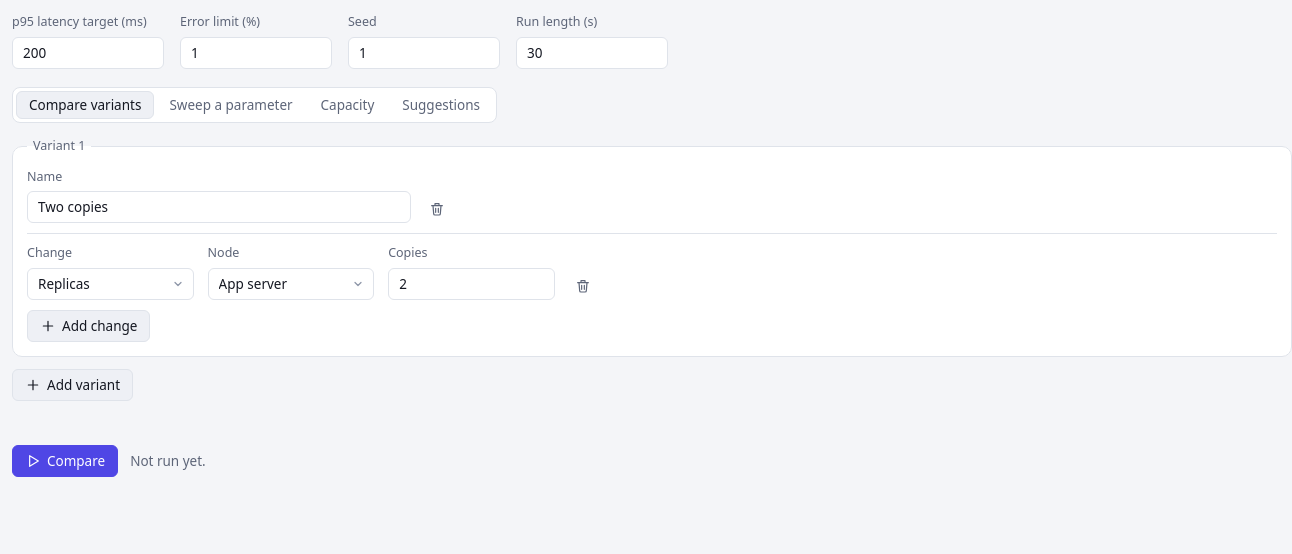
Test case: WhatIfTab › reports capacity and what limits it
Click the button "Capacity". click: point(347, 105)
box: [308, 91, 387, 119]
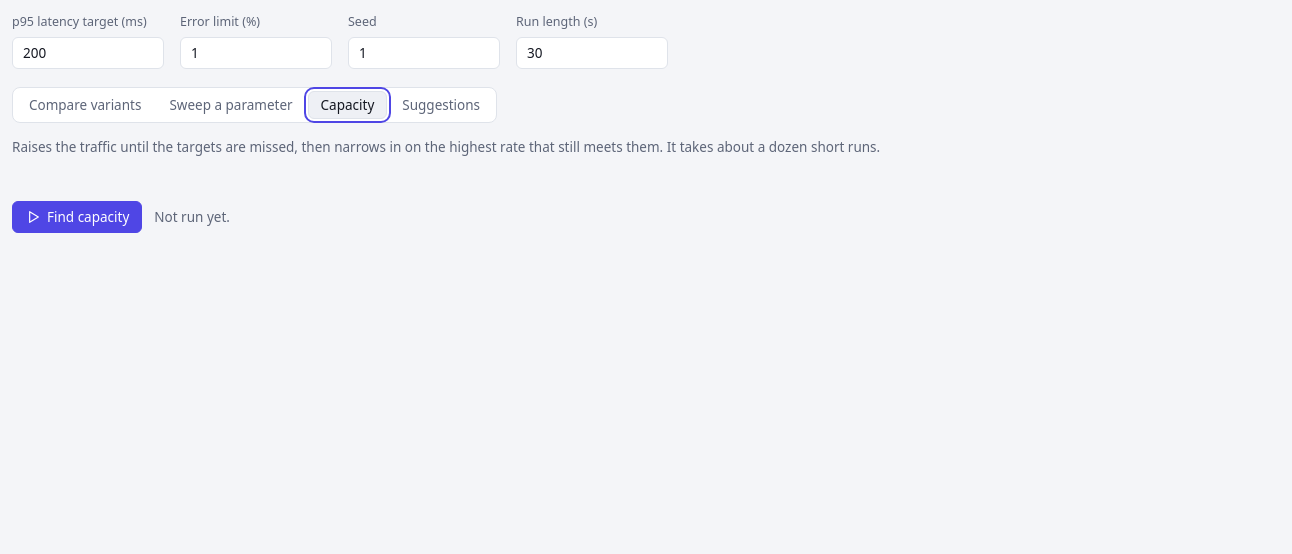
Click the button "Find capacity". click: point(77, 217)
box: [12, 201, 142, 233]
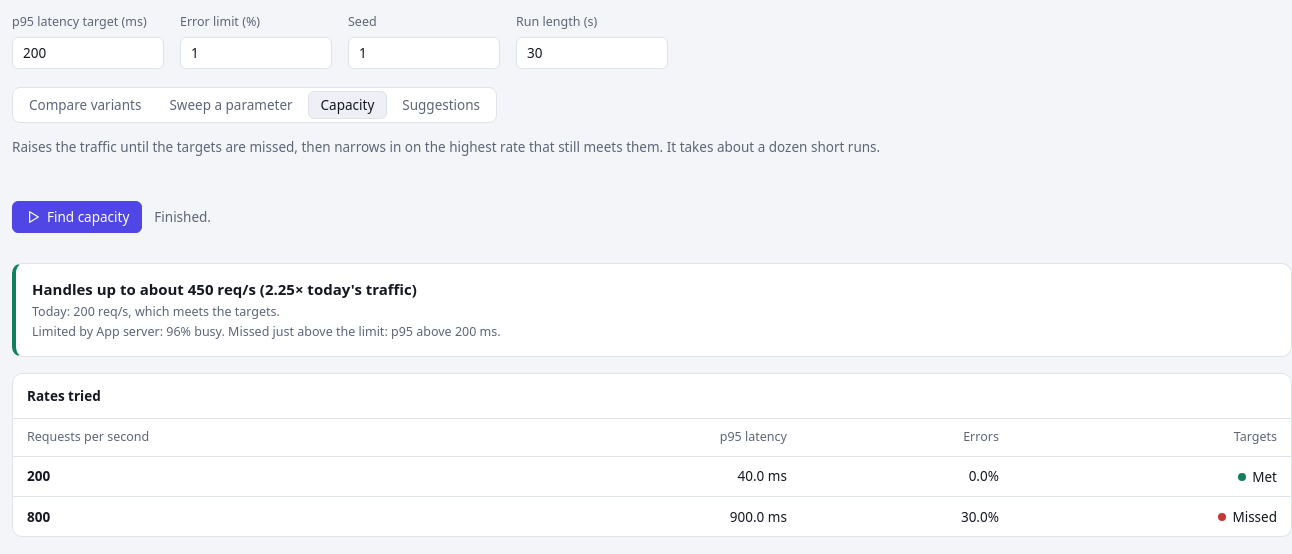
Check: the text "Handles up to about 450 req/s (2.25× today's traffic)" is shown, box [32, 279, 417, 299]
Check: the text "Limited by App server: 96% busy" is shown, box [32, 323, 501, 340]
